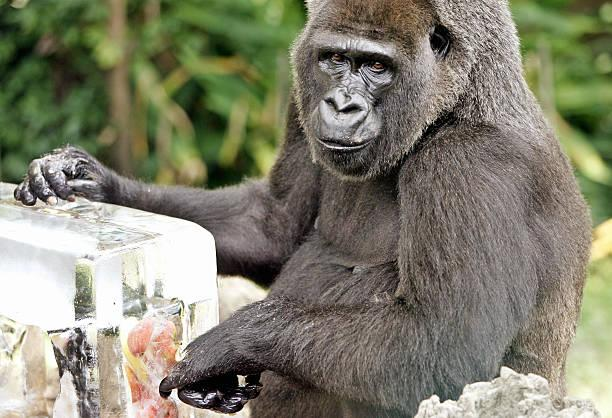gorille_Autres: (196, 2, 609, 418)
